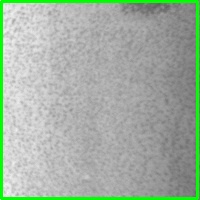pitted_surface: (1, 1, 197, 198)
